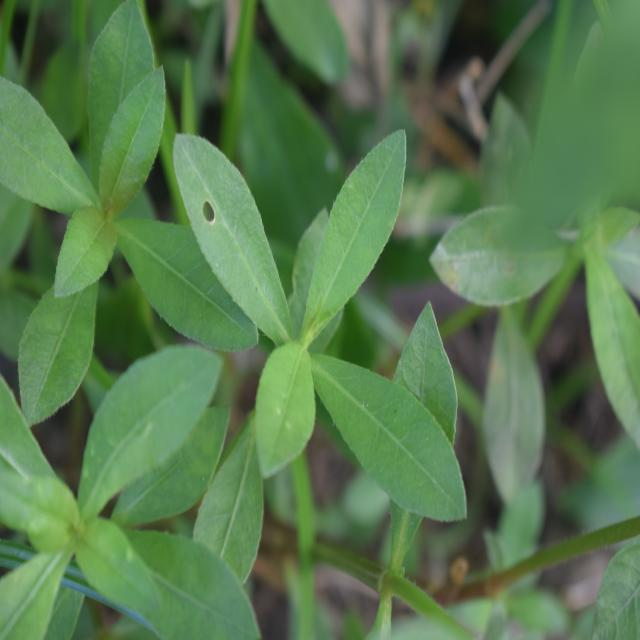Alligatorweed: (198, 145, 478, 547), (0, 45, 222, 407), (0, 364, 238, 634)
